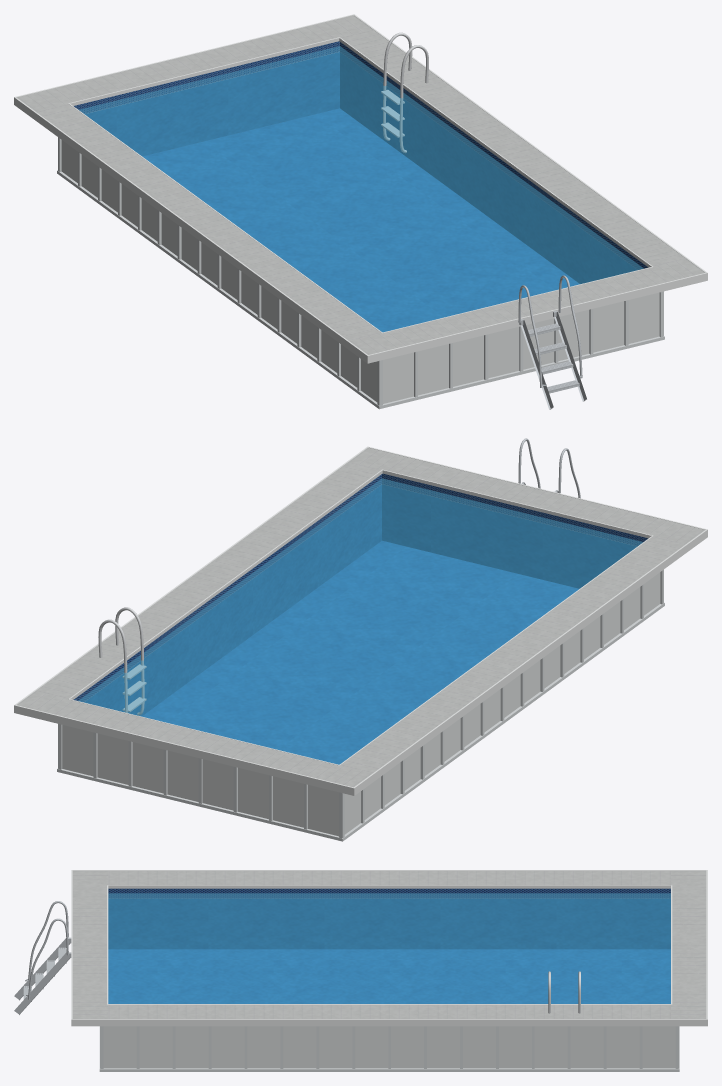
Rendered from kayak-pool-16x32-white-walk-ag-nofence.23096f1389.glb.
The picture shows the model from 3 angles, top to bottom: view 1: azimuth 30°, elevation 25°; view 2: azimuth 150°, elevation 25°; view 3: azimuth 270°, elevation 25°; orthographic projection. The views are drawn at different scales.
Visible parts, largest first — view 1: water, liner_floor, liner_wall, deck, wall, fascia, upright, ladder, steel; view 2: water, liner_floor, liner_wall, deck, wall, fascia, upright, steel; view 3: water, liner_wall, liner_floor, deck, wall, fascia, upright, ladder.
Boxes of the visible parts, bbox=[...] form: water: bbox=[79, 46, 643, 332]; liner_floor: bbox=[143, 108, 579, 332]; liner_wall: bbox=[73, 41, 648, 283]; deck: bbox=[17, 15, 704, 354]; wall: bbox=[61, 140, 659, 403]; fascia: bbox=[14, 14, 707, 363]; upright: bbox=[57, 137, 664, 409]; ladder: bbox=[518, 275, 586, 409]; steel: bbox=[381, 32, 428, 152]; water: bbox=[78, 478, 642, 764]; liner_floor: bbox=[142, 541, 578, 764]; liner_wall: bbox=[73, 473, 648, 716]; deck: bbox=[17, 447, 704, 787]; wall: bbox=[62, 572, 660, 836]; fascia: bbox=[14, 446, 707, 795]; upright: bbox=[57, 569, 664, 841]; steel: bbox=[98, 607, 146, 715]; water: bbox=[108, 893, 670, 1003]; liner_wall: bbox=[108, 888, 670, 949]; liner_floor: bbox=[108, 949, 670, 1003]; deck: bbox=[72, 871, 706, 1018]; wall: bbox=[103, 1026, 675, 1068]; fascia: bbox=[71, 870, 707, 1026]; upright: bbox=[99, 1026, 679, 1071]; ladder: bbox=[14, 901, 71, 1014].
Size of the model in its own units: 6.1 by 1.9 by 11.96.
Materials: 10 (3 with a texture image).
